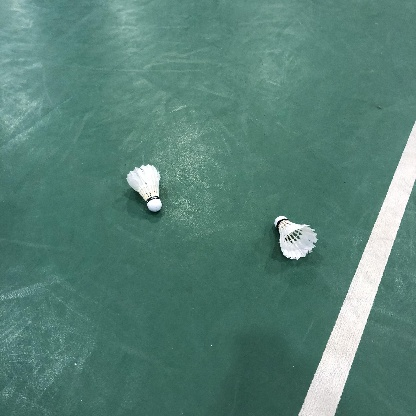ball_single: (274, 216, 318, 260), (126, 164, 162, 212)
